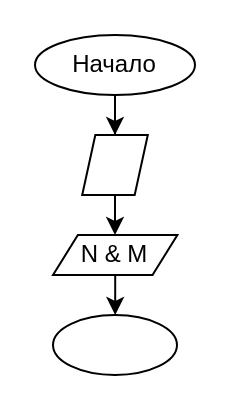
The diagram is 230 pixels wide and 410 high, and some of its shapes have lost their labels. The centre of each missing label's shape, as x and y in pixels:
"N, M" belongs at (x=114, y=164).
"Конец" belongs at (x=114, y=344).
